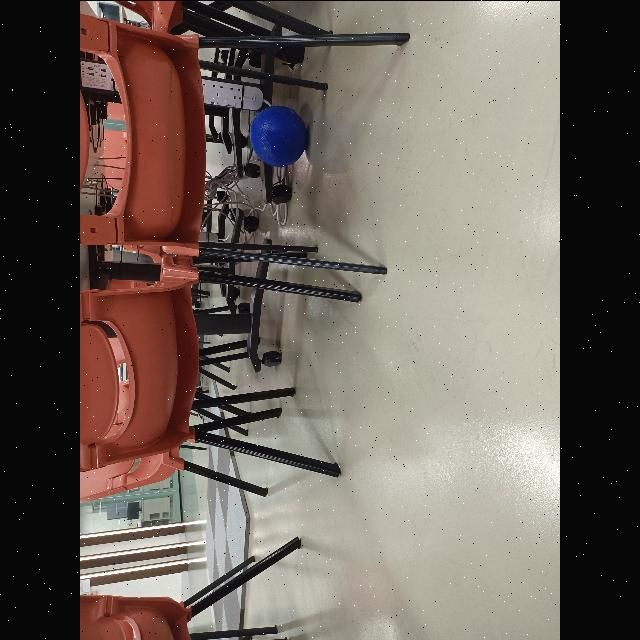B: (250, 104, 308, 168)
